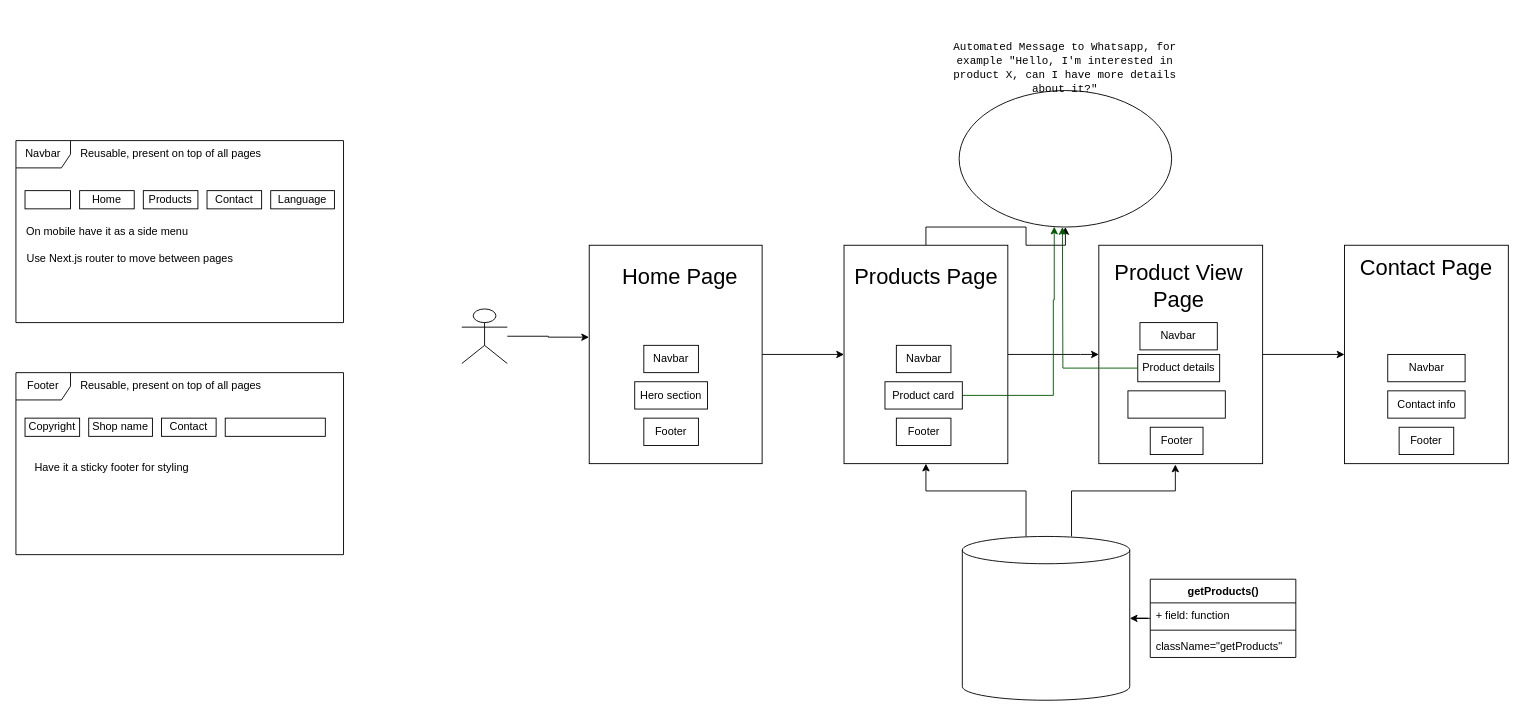
Some shapes in this 1524 by 716 pixel diagram are drawn without their labels. Here are the shapes that lost their labels. From the top down, the centre of each, then its label:
At point 1065,158: "redirectToWhatsapp(productId) (external redirect)".
At point 47,199: "Logo".
At point 484,336: "Actor".
At point 1176,404: "Whatsapp button".
At point 274,426: "Social media links".
At point 1045,618: "Product Data Store".
